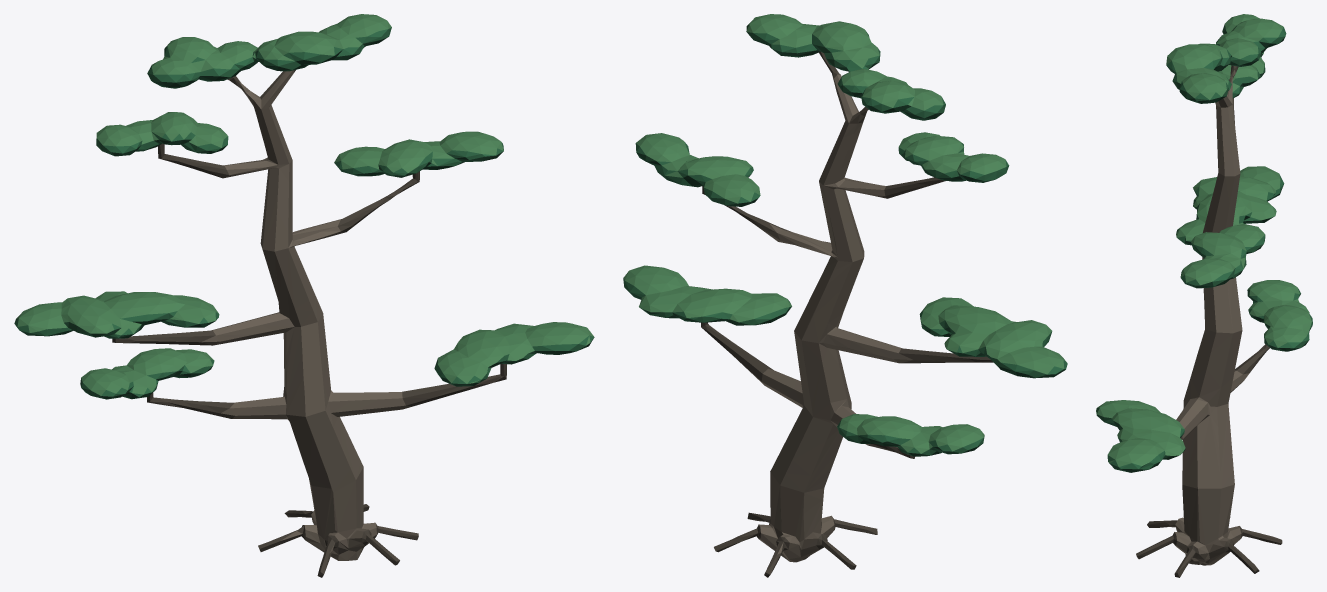
Rendered from ancient-pine-1997-lod0.glb.
The picture shows the model from 3 angles, left to right: view 1: azimuth 30°, elevation 25°; view 2: azimuth 150°, elevation 25°; view 3: azimuth 270°, elevation 25°; orthographic projection. The views are drawn at different scales.
Visible parts, largest first — view 1: n12.004, n8.004, n11.004, n9.004, n10.004; view 2: n12.004, n8.004, n11.004, n9.004, n10.004; view 3: n12.004, n8.004, n11.004, n9.004, n10.004.
Part boxes in pixels (x1,y1,x2,y2): n12.004: (16, 14, 593, 395); n8.004: (201, 70, 412, 560); n11.004: (14, 27, 593, 397); n9.004: (112, 70, 506, 577); n10.004: (15, 37, 594, 399); n12.004: (624, 14, 1066, 453); n8.004: (751, 74, 913, 562); n11.004: (623, 24, 1067, 455); n9.004: (701, 51, 993, 577); n10.004: (623, 35, 1065, 456); n12.004: (1096, 14, 1311, 466); n8.004: (1166, 69, 1249, 565); n11.004: (1096, 24, 1312, 469); n9.004: (1136, 65, 1282, 577); n10.004: (1097, 36, 1312, 472).
Size of the model in its own units: 5.35 by 5.43 by 2.15.
